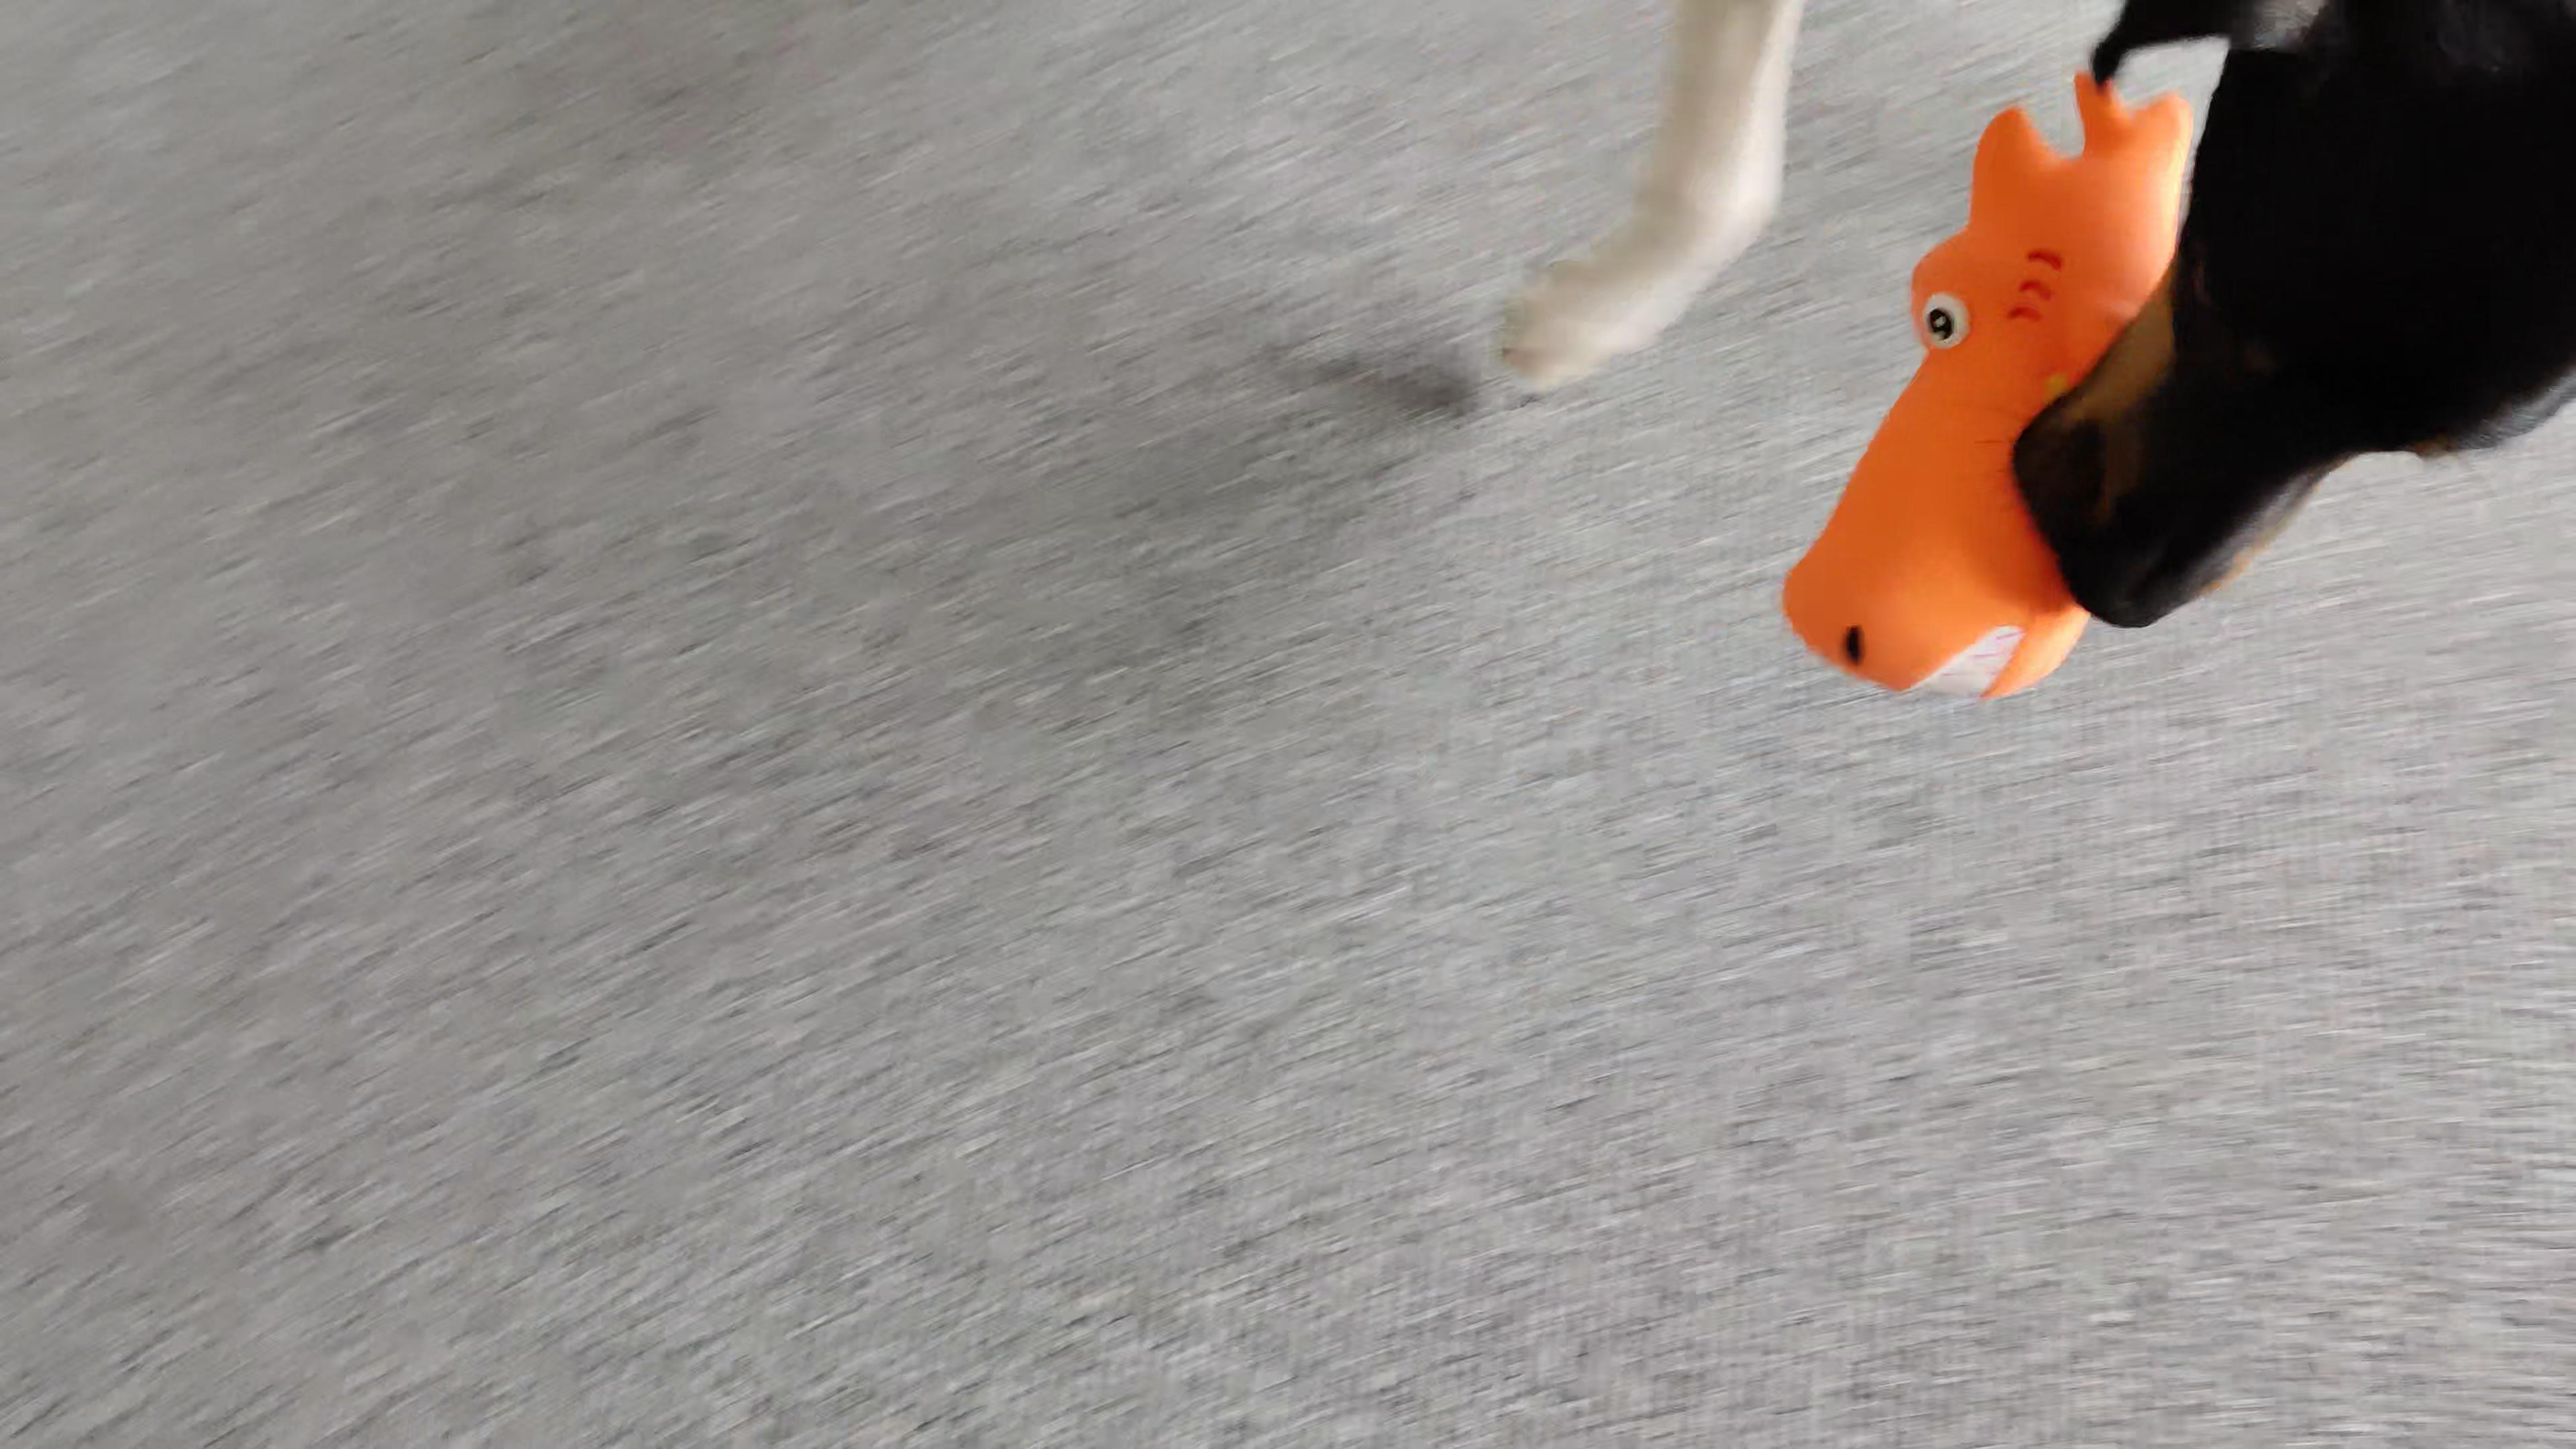Dog: (1468, 0, 2576, 637)
